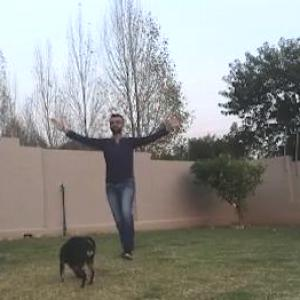takeoff: (41, 94, 180, 269)
